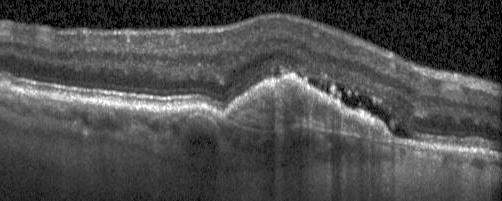neuroepithelium_detachment: (307, 78, 408, 137)
retinal_drusen: (226, 78, 391, 140)
